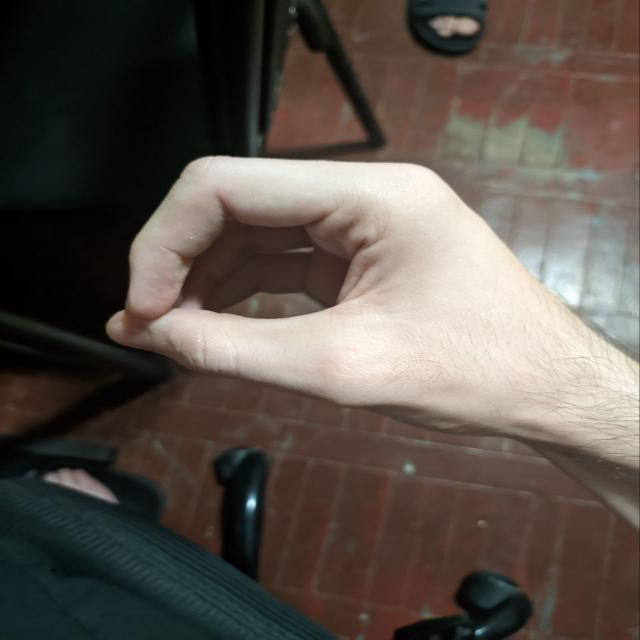e: (93, 142, 566, 440)
